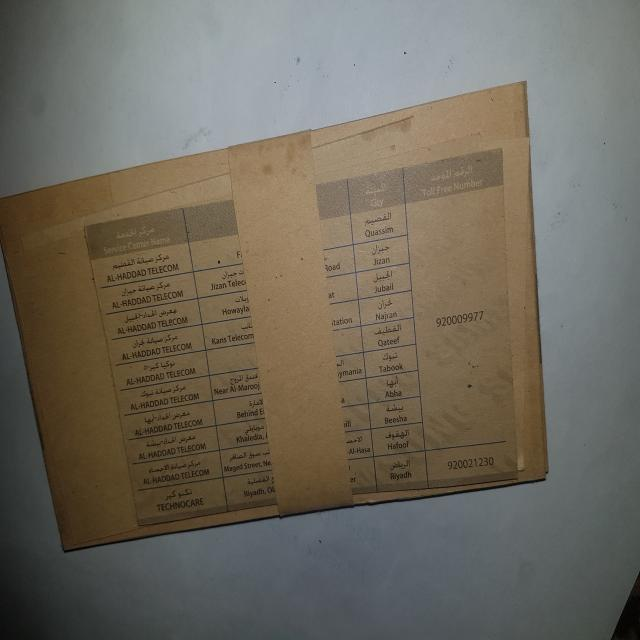electronic: (1, 81, 550, 552)
